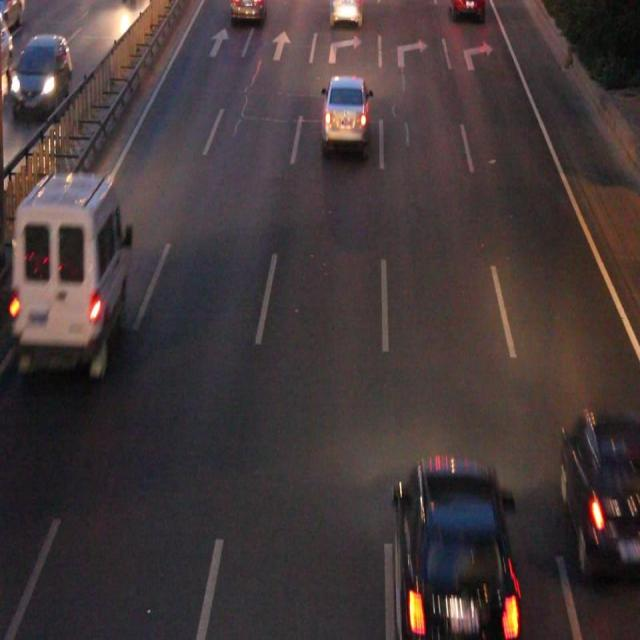car: (398, 462, 516, 633), (561, 411, 640, 563), (322, 78, 367, 146), (330, 1, 361, 24), (229, 1, 265, 19), (450, 2, 482, 15)
truck: (16, 173, 124, 364)
